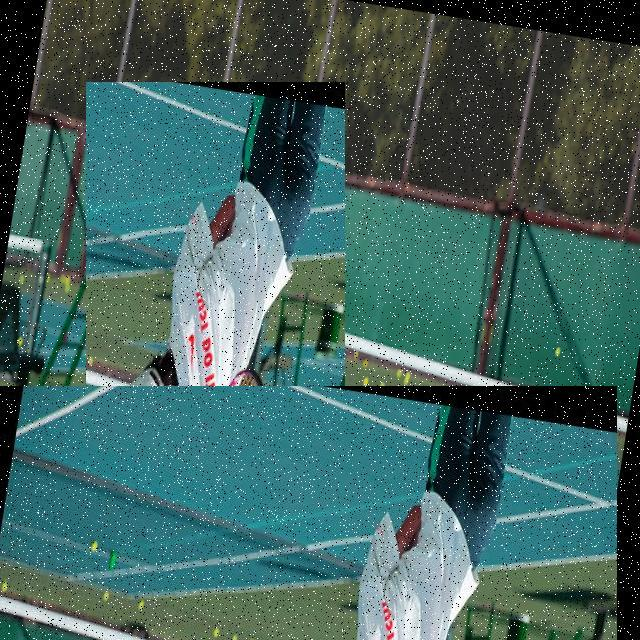court: (0, 386, 617, 640)
net: (136, 297, 636, 576)
player: (86, 82, 345, 634)
